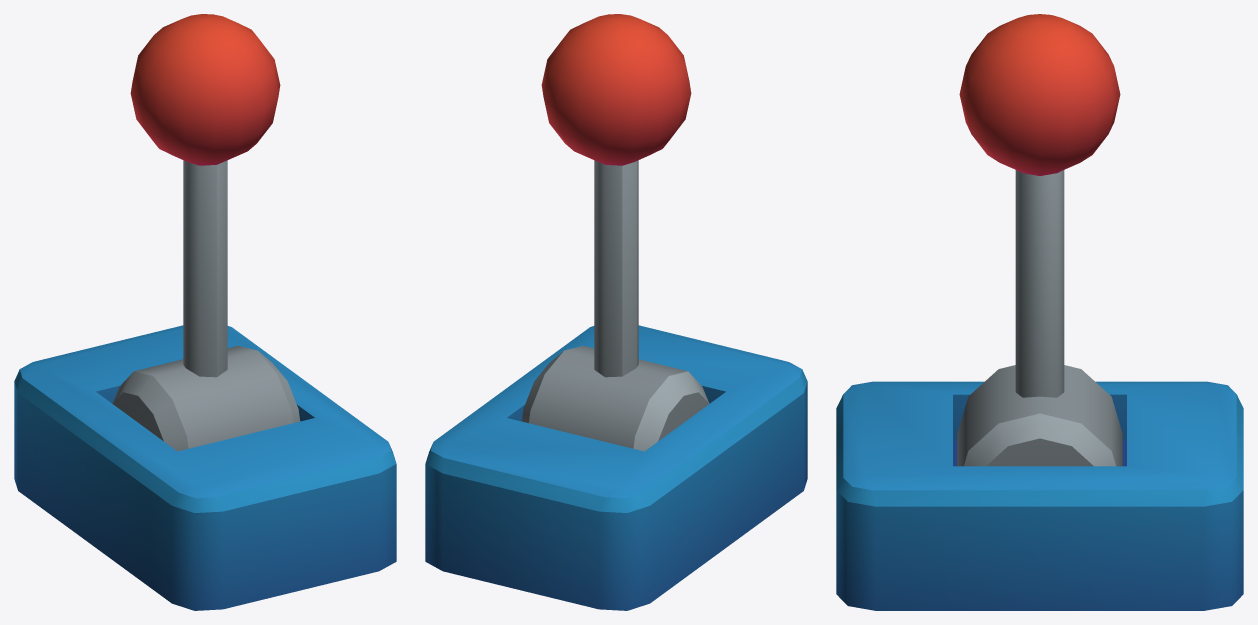
Rendered from lever-floor-base-blue.glb.
3 views of the same model, side by side, from view 1: azimuth 30°, elevation 25°; view 2: azimuth 150°, elevation 25°; view 3: azimuth 270°, elevation 25° (orthographic). The views are drawn at different scales.
Parts seen in each view (by area): view 1: lever_floor_base_blue, lever_floor_blue; view 2: lever_floor_base_blue, lever_floor_blue; view 3: lever_floor_base_blue, lever_floor_blue.
Boxes of the visible parts, bbox=[...] form: lever_floor_base_blue: bbox=[14, 325, 396, 610]; lever_floor_blue: bbox=[112, 14, 300, 451]; lever_floor_base_blue: bbox=[425, 325, 807, 610]; lever_floor_blue: bbox=[521, 14, 709, 451]; lever_floor_base_blue: bbox=[836, 381, 1243, 610]; lever_floor_blue: bbox=[957, 14, 1122, 466].
Bounding box in the file's own units: 0.8 × 1.73 × 1.2.
1 material, 1 textured.
